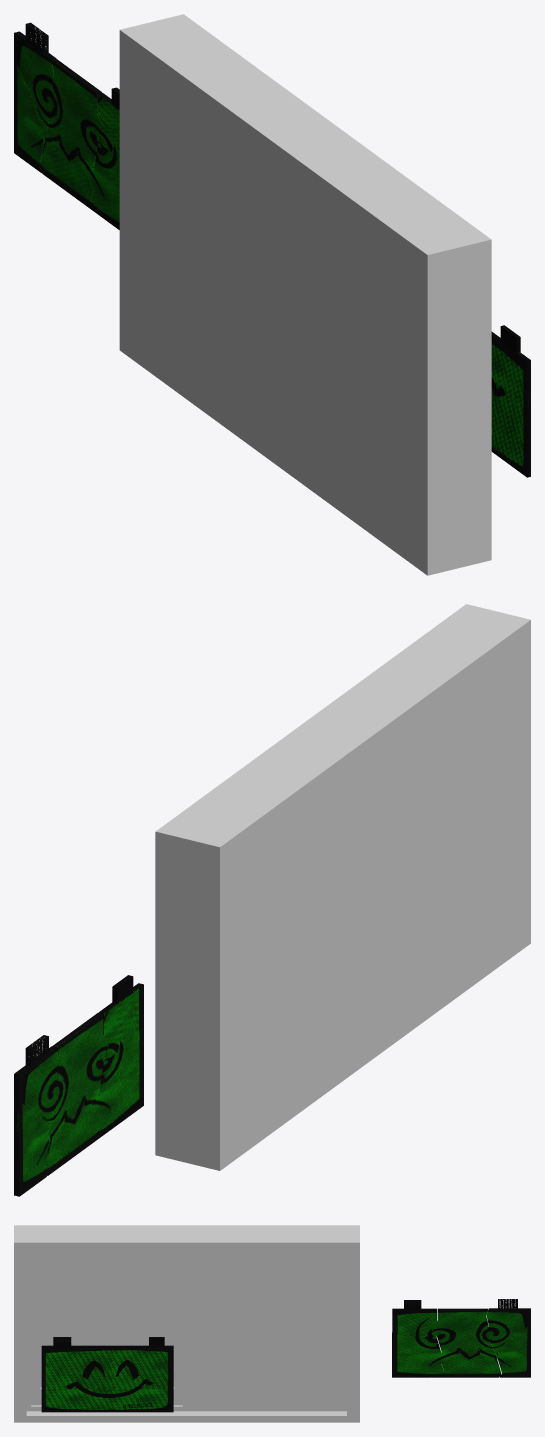
The model's file is PuzzleGameTexturesMonik.fbx.
The picture shows the model from 3 angles, top to bottom: view 1: azimuth 30°, elevation 25°; view 2: azimuth 150°, elevation 25°; view 3: azimuth 270°, elevation 25°; orthographic projection. The views are drawn at different scales.
Parts seen in each view (by area): view 1: Cube, Cube.001, Plane.003, Plane.005, Plane.001, Plane.004, Plane, Plane.002; view 2: Cube, Plane.003, Plane, Plane.005, Plane.004, Plane.001, Plane.002; view 3: Cube, Cube.001, Plane.003, Plane, Plane.005, Plane.001, Plane.002, Plane.004.
Boxes of the visible parts, x1,y1,x2,y2 form: Cube: (119,14,491,575); Cube.001: (491,325,530,477); Plane.003: (44,59,104,168); Plane.005: (14,22,57,142); Plane.001: (40,125,103,218); Plane.004: (14,64,44,172); Plane: (82,143,119,229); Plane.002: (97,87,119,160); Cube: (155,604,530,1170); Plane.003: (49,1013,109,1142); Plane: (88,1027,143,1130); Plane.005: (14,1035,62,1142); Plane.004: (14,1103,48,1196); Plane.001: (45,1089,108,1175); Plane.002: (98,975,143,1061); Cube: (14,1225,359,1422); Cube.001: (41,1337,173,1412); Plane.003: (430,1308,497,1359); Plane: (392,1332,453,1377); Plane.005: (483,1299,530,1359); Plane.001: (431,1341,501,1377); Plane.002: (392,1300,436,1338); Plane.004: (498,1326,530,1377).
Size of the model in its own units: 160 by 385 by 1001.
8 materials, 7 textured.
